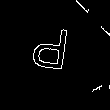P_S: (34, 25, 78, 81)
